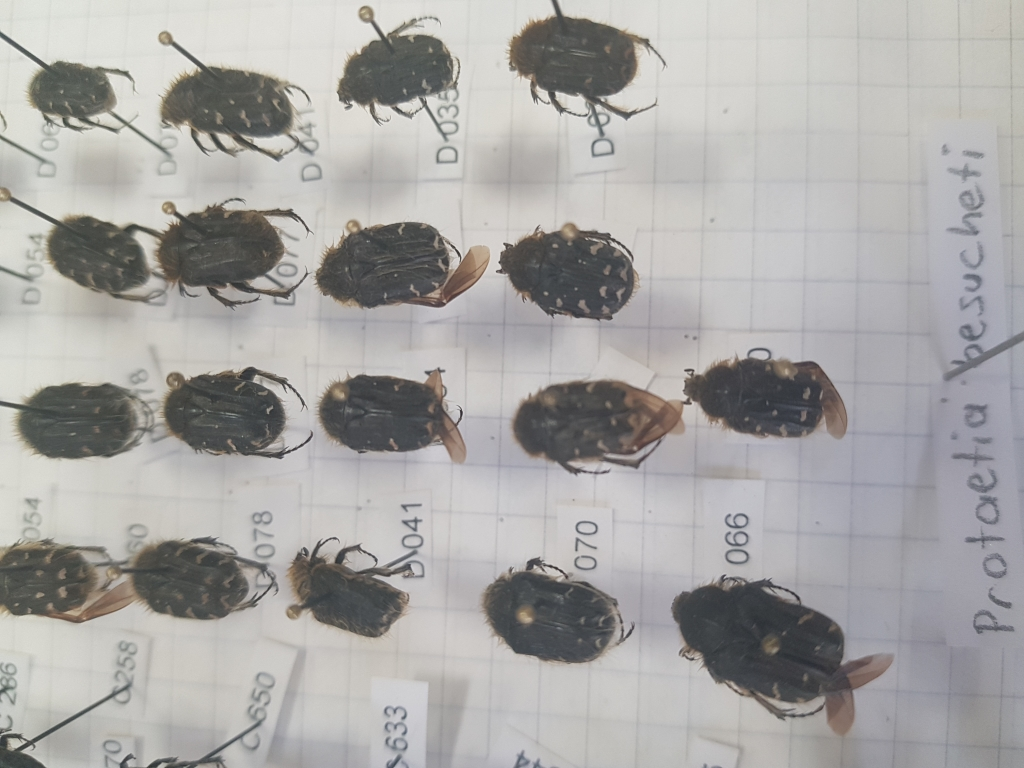Tropinota_hirta: (497, 211, 688, 311)
